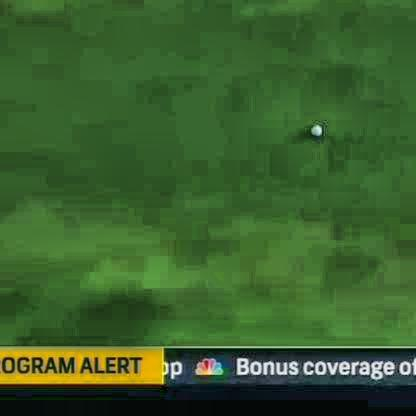golfball: (307, 120, 320, 133)
